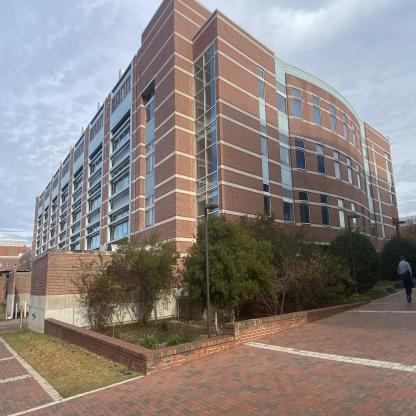EB-1: (31, 58, 403, 288)
